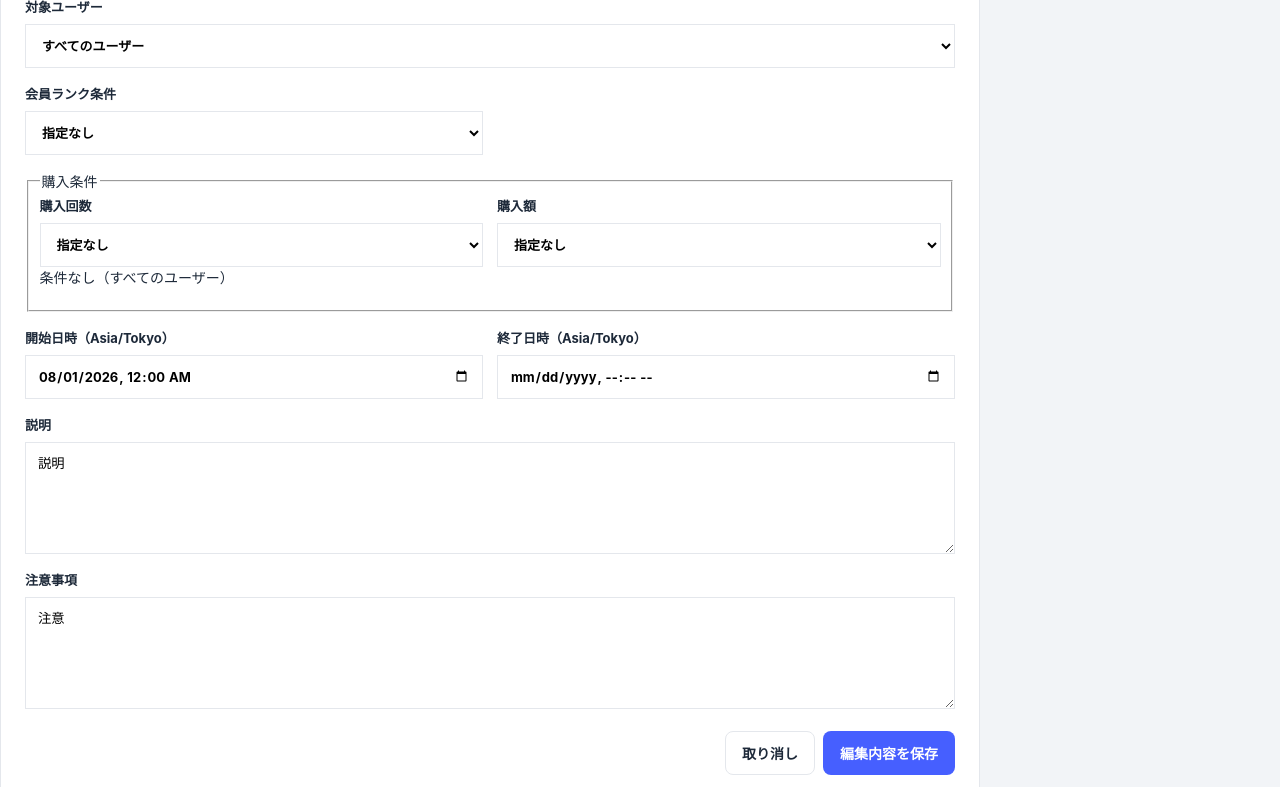
Test: Gacha lifecycle editing › shows a mapped lifecycle error without Request ID or internal code
(page scrolled)
Click the button "編集内容を保存" at (889, 753), box [823,731,955,775]
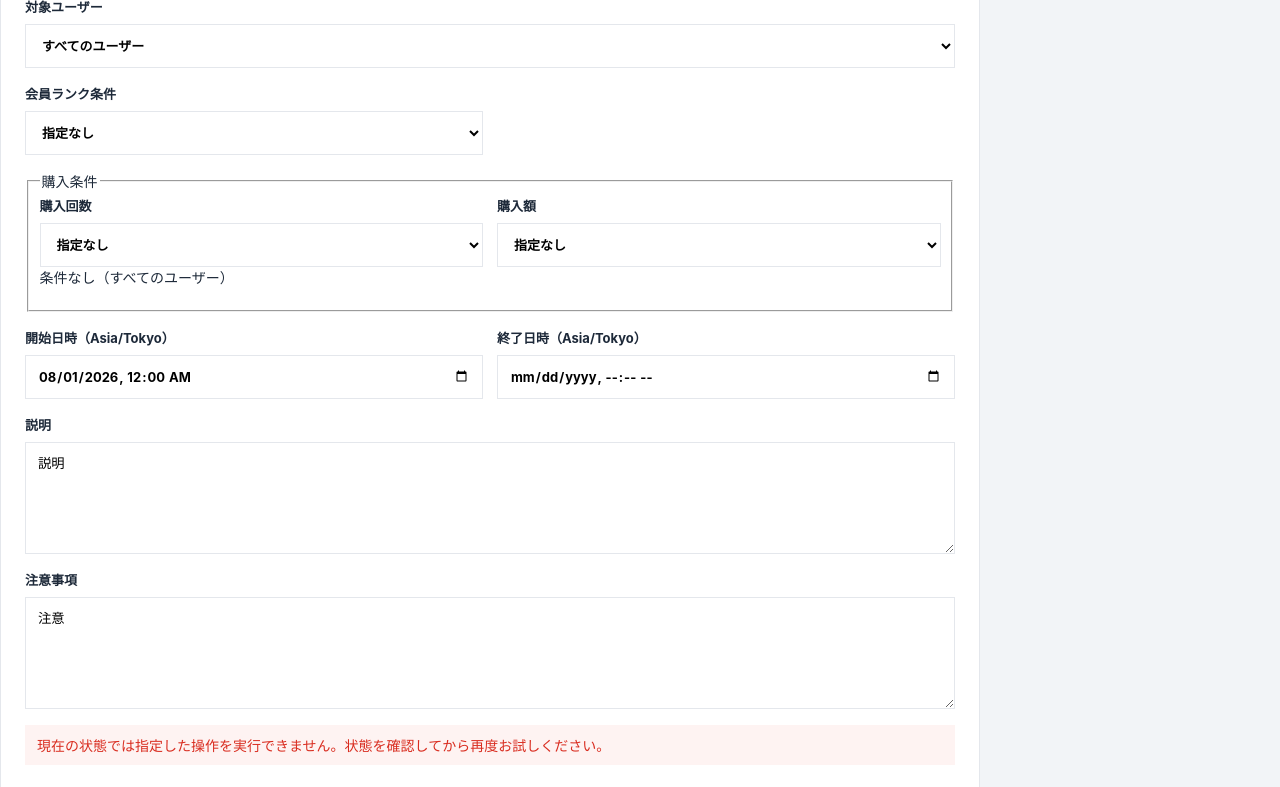
Now the text "現在の状態では指定した操作を実行できません。状態を確認してから再度お試しください。" is shown, box [25,725,955,765]
